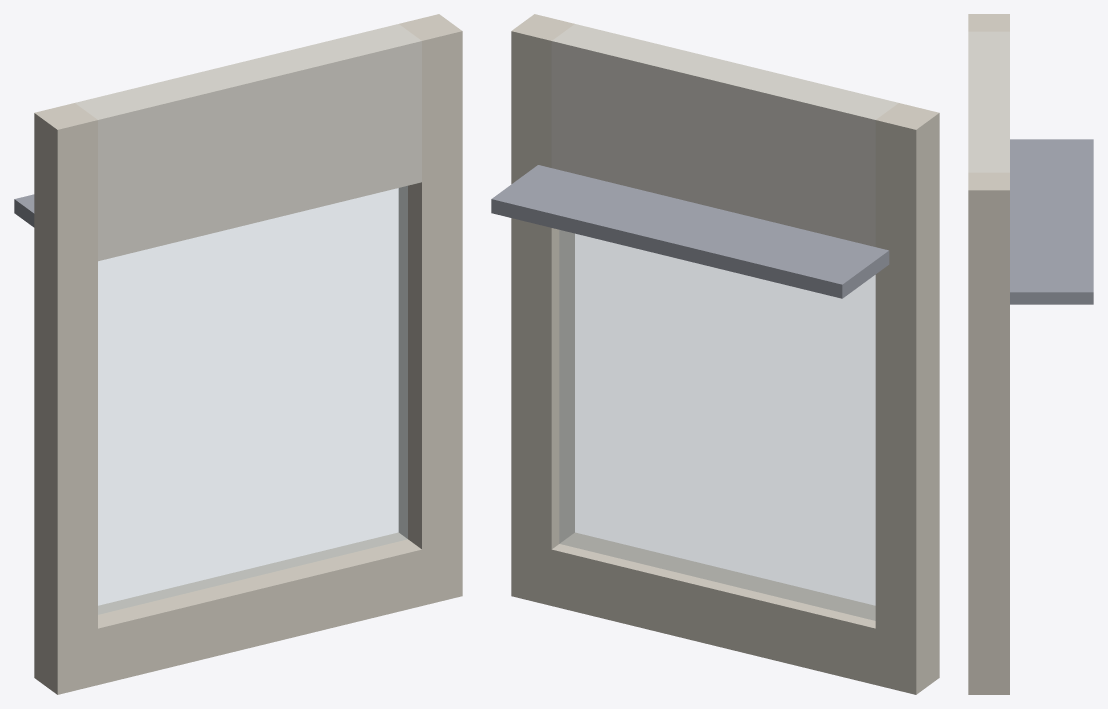
Rendered from fac_shopfront_c.glb.
3 views of the same model, side by side, from view 1: azimuth 30°, elevation 25°; view 2: azimuth 150°, elevation 25°; view 3: azimuth 270°, elevation 25° (orthographic). The views are drawn at different scales.
Parts seen in each view (by area): view 1: fac_shopfront_c; view 2: fac_shopfront_c; view 3: fac_shopfront_c.
Part boxes in pixels (bbox=[...]): fac_shopfront_c: bbox=[14, 14, 462, 694]; fac_shopfront_c: bbox=[491, 14, 939, 694]; fac_shopfront_c: bbox=[968, 14, 1093, 694].
Size of what is drawn, in the model's own units: 3 by 4 by 0.9.
